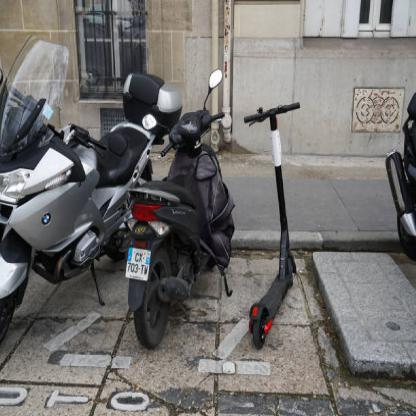Motorcycle: (0, 51, 160, 317), (131, 100, 235, 348)
